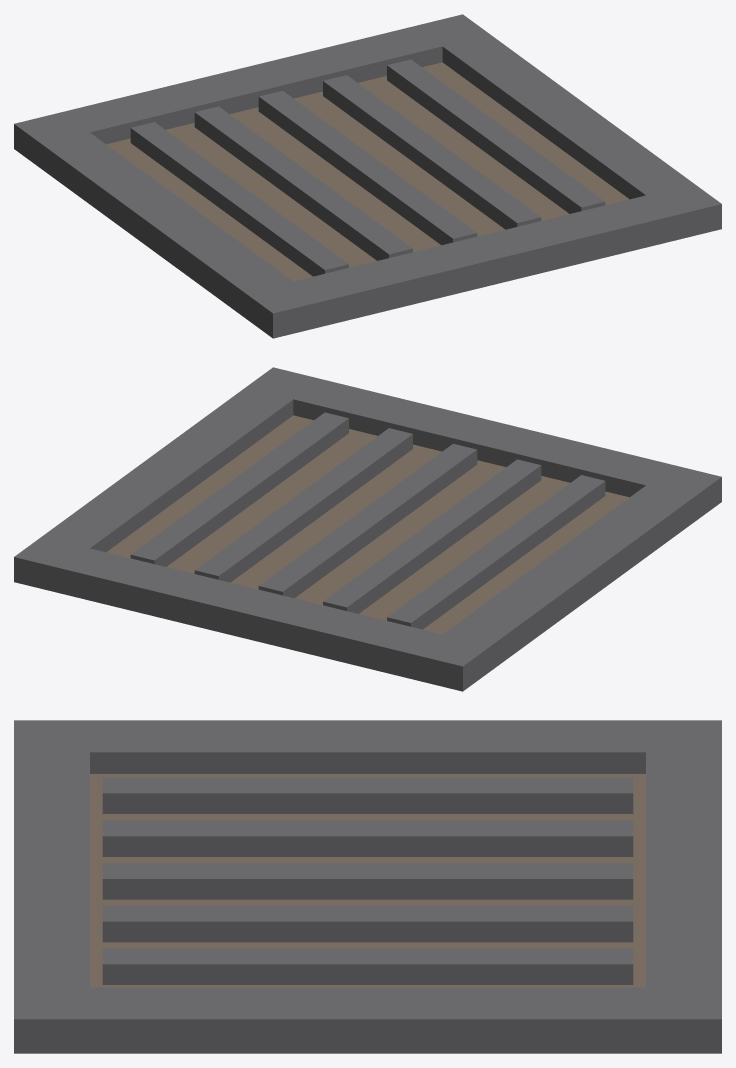
The model's file is tree_grate.glb.
The picture shows the model from 3 angles, top to bottom: view 1: azimuth 30°, elevation 25°; view 2: azimuth 150°, elevation 25°; view 3: azimuth 270°, elevation 25°; orthographic projection. The views are drawn at different scales.
Visible parts, largest first — view 1: tree_grate; view 2: tree_grate; view 3: tree_grate.
Part boxes in pixels (left/top/right/bottom): tree_grate: left=14, top=14, right=721, bottom=338; tree_grate: left=14, top=367, right=721, bottom=691; tree_grate: left=14, top=720, right=721, bottom=1053.
Size of the model in its own units: 0.56 by 0.039 by 0.56.
